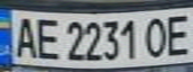1: (118, 16, 142, 60)
2: (60, 17, 84, 62), (81, 17, 103, 63)
3: (100, 17, 121, 62)
A: (9, 13, 39, 60)
E: (160, 11, 193, 57), (33, 14, 63, 61)
O: (142, 14, 172, 58)
